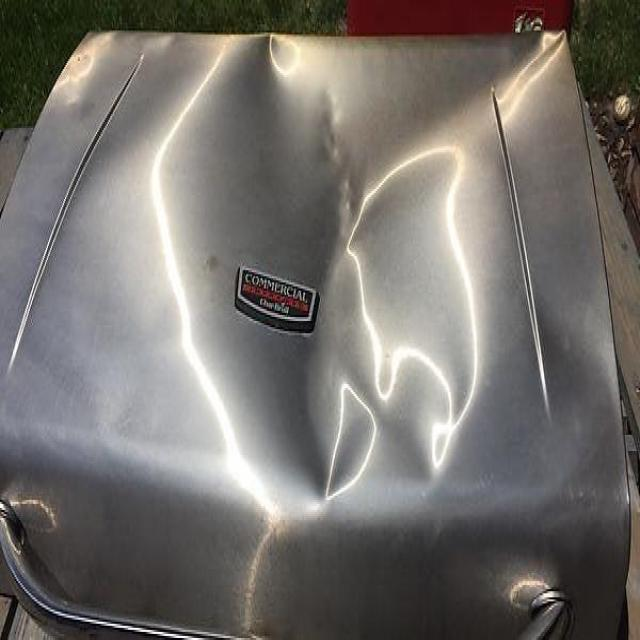dent: (155, 49, 348, 496), (349, 146, 482, 477)
